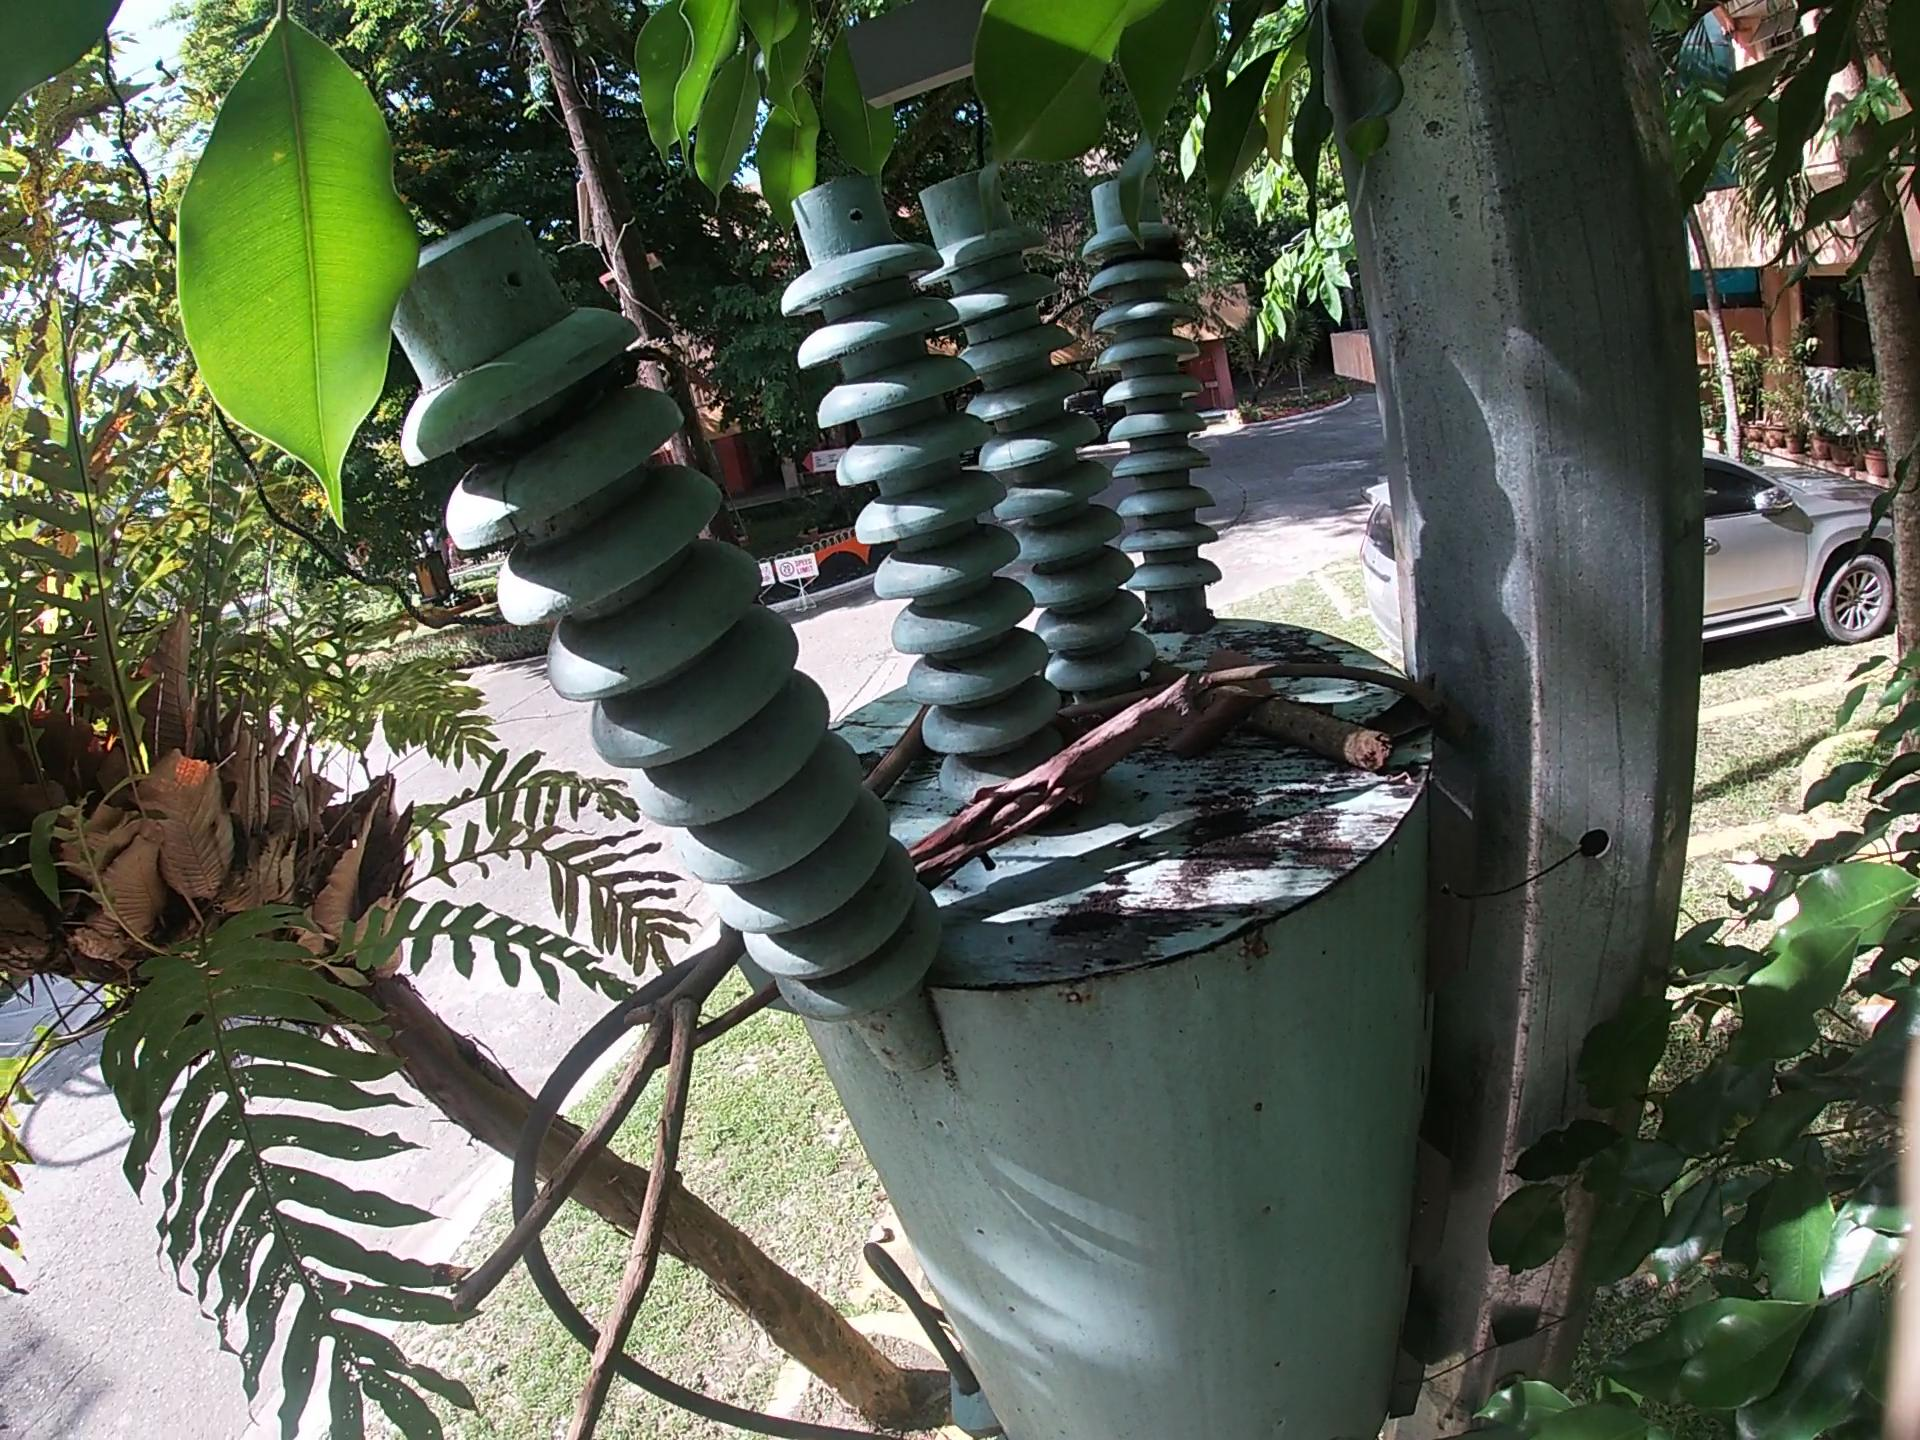leaf: (1175, 687, 1250, 756), (1374, 684, 1450, 729), (1215, 641, 1285, 687)
tree branch: (429, 927, 751, 1423), (916, 667, 1215, 870), (1228, 700, 1404, 777), (1197, 656, 1432, 703), (652, 992, 777, 1066), (866, 705, 940, 784), (1055, 685, 1157, 725)
